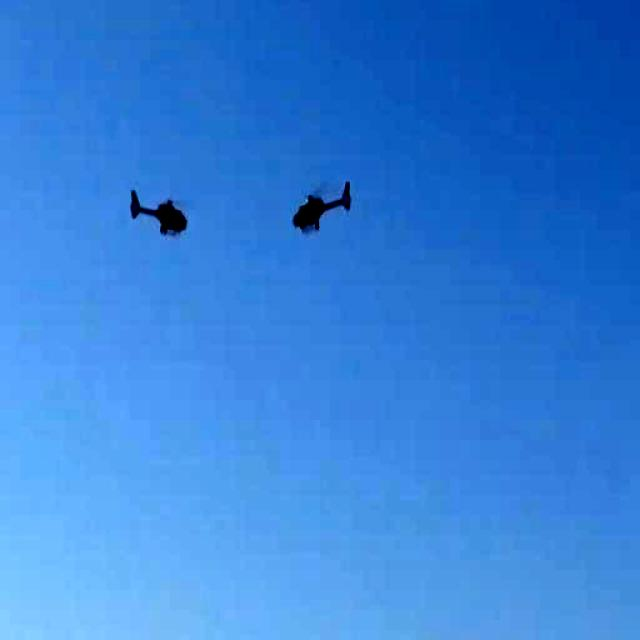drone: (129, 176, 190, 245), (289, 179, 360, 238)
